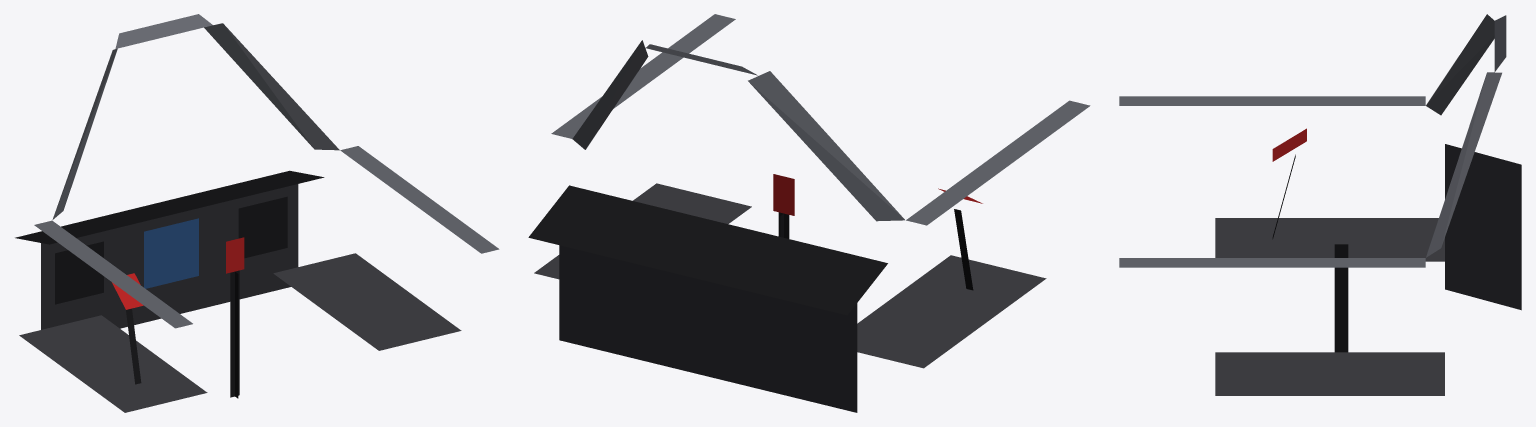
File: Ckpt1.obj
3 views of the same model, side by side, from view 1: azimuth 30°, elevation 25°; view 2: azimuth 150°, elevation 25°; view 3: azimuth 270°, elevation 25° (orthographic). The views are drawn at different scales.
Parts seen in each view (by area): view 1: ckpt; view 2: ckpt; view 3: ckpt.
Boxes of the visible parts, left/top/right/bottom form: ckpt: left=15, top=14, right=499, bottom=412; ckpt: left=528, top=14, right=1090, bottom=412; ckpt: left=1119, top=14, right=1521, bottom=395.
Size of the model in its own units: 1.1 by 0.99 by 1.05.
